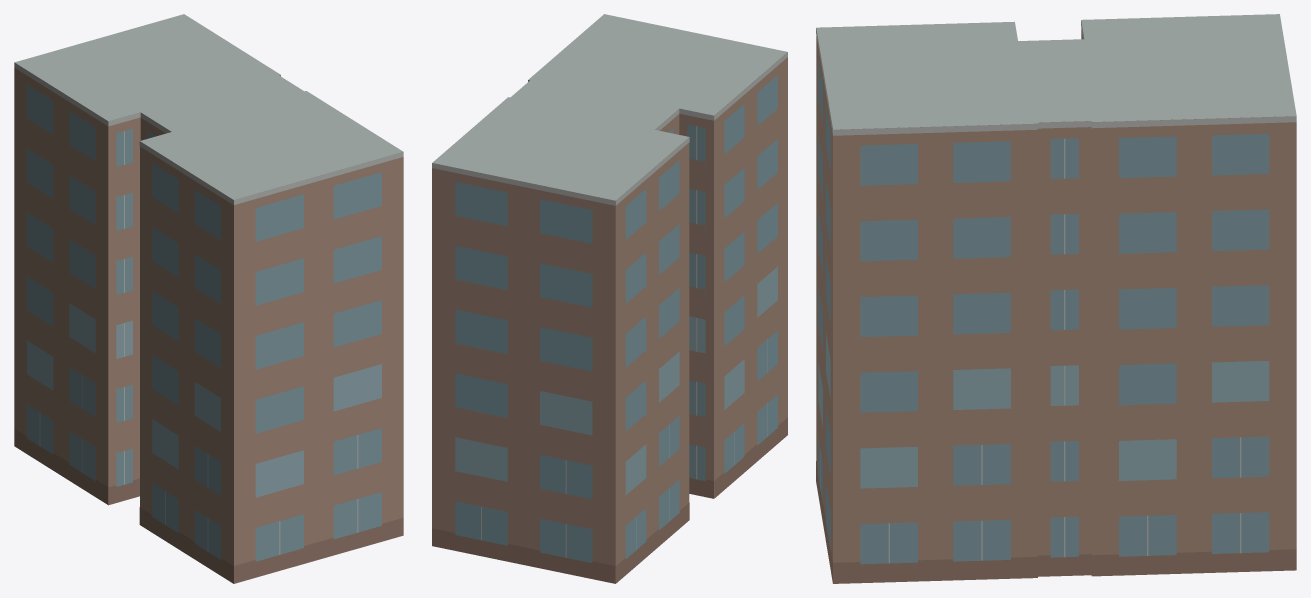
The model's file is survey-upis-32872803.glb.
3 renders of one model, left to right at view 1: azimuth 30°, elevation 25°; view 2: azimuth 150°, elevation 25°; view 3: azimuth 270°, elevation 25°, orthographic. The views are drawn at different scales.
Parts seen in each view (by area): view 1: survey-upis-32872803.tmp; view 2: survey-upis-32872803.tmp; view 3: survey-upis-32872803.tmp.
Boxes of the visible parts, x1,y1,x2,y2 form: survey-upis-32872803.tmp: (14,14,403,583); survey-upis-32872803.tmp: (432,14,787,583); survey-upis-32872803.tmp: (816,14,1296,583).
Size of the model in its own units: 9.92 by 18.15 by 17.41.
